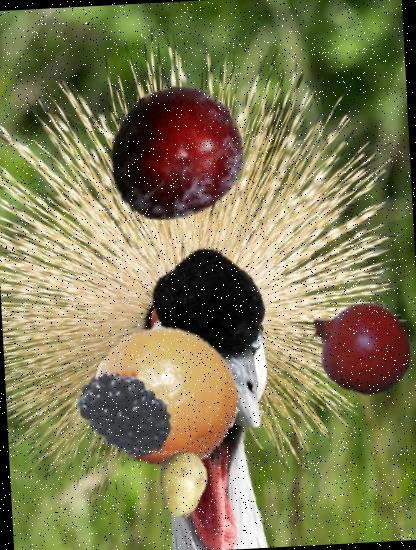Lemon: (89, 321, 243, 475)
Mulberry: (72, 359, 178, 465)
Pear: (148, 451, 219, 522)
Plum: (100, 78, 249, 227)
Pomegranate: (303, 290, 416, 405)
